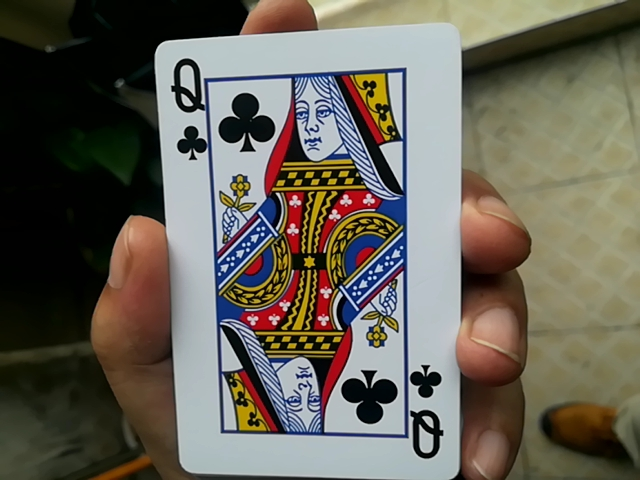mh q: (145, 20, 465, 480)
